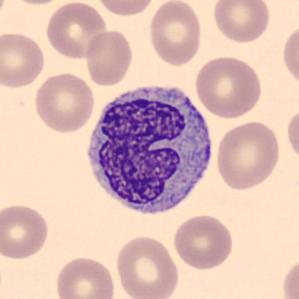Monocyte: (80, 77, 219, 224)
RBC: (214, 119, 282, 192), (193, 54, 264, 119), (113, 233, 181, 299), (32, 70, 96, 134), (43, 0, 109, 60), (147, 0, 203, 68), (171, 213, 235, 271), (83, 28, 135, 87), (0, 201, 50, 261), (52, 253, 117, 299), (0, 30, 47, 90), (210, 0, 272, 44), (280, 21, 299, 90), (92, 0, 158, 17), (284, 105, 299, 165), (281, 253, 299, 299), (5, 0, 68, 7), (273, 0, 298, 8), (0, 0, 8, 24)
